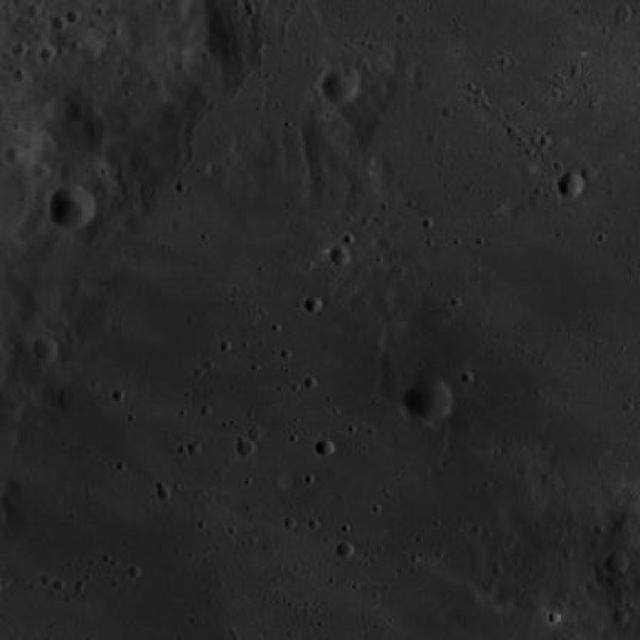crater: (51, 184, 97, 230), (406, 378, 451, 424), (326, 67, 362, 104), (559, 172, 587, 200), (606, 550, 632, 576), (33, 337, 59, 363), (332, 244, 354, 266), (7, 146, 27, 166), (318, 438, 338, 458), (239, 439, 259, 459), (210, 160, 230, 180), (338, 540, 357, 558), (614, 608, 632, 626), (34, 164, 51, 181), (583, 165, 600, 182), (308, 298, 326, 314), (13, 42, 30, 58), (41, 46, 58, 62), (616, 5, 632, 21), (53, 15, 69, 30)
